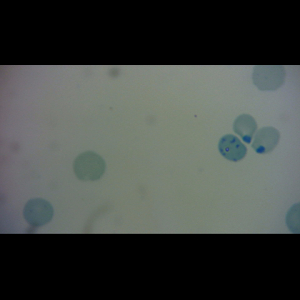aggregate reticulocyte: (217, 133, 248, 162)
erythrocyte: (71, 150, 107, 182), (250, 125, 282, 155), (232, 113, 258, 145)
punctate reticulocyte: (22, 197, 55, 228)
